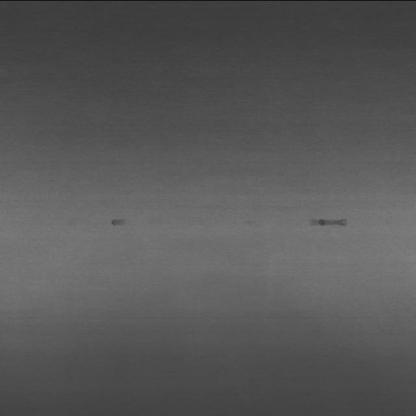oil_spot: (300, 212, 355, 235), (93, 214, 138, 231)
